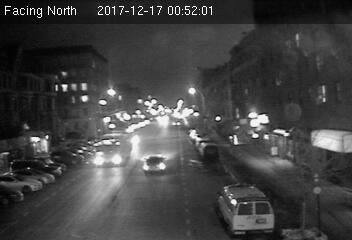car: (141, 154, 168, 174)
police: (216, 183, 275, 235)
